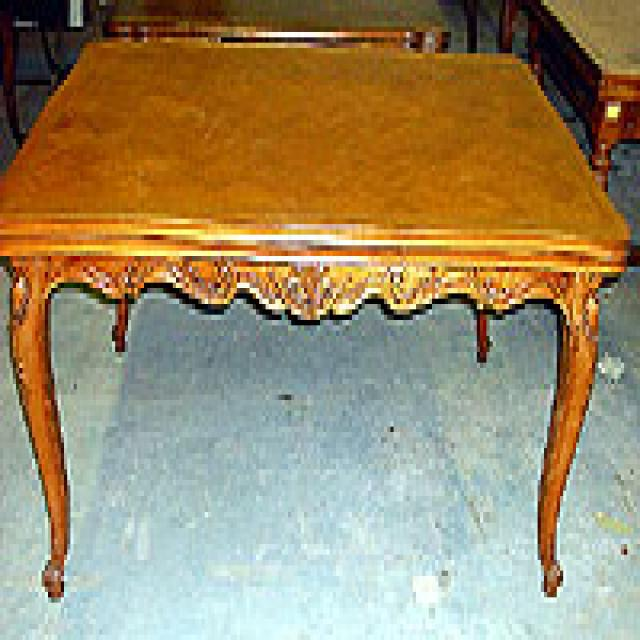table: (0, 38, 624, 598)
